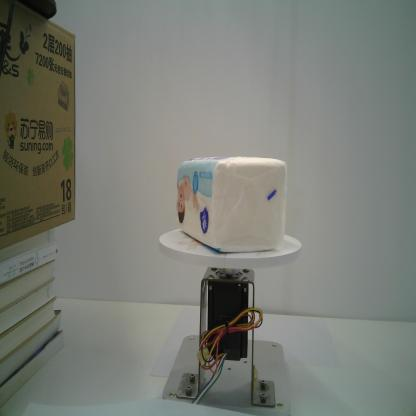Tissue: (175, 155, 287, 254)
